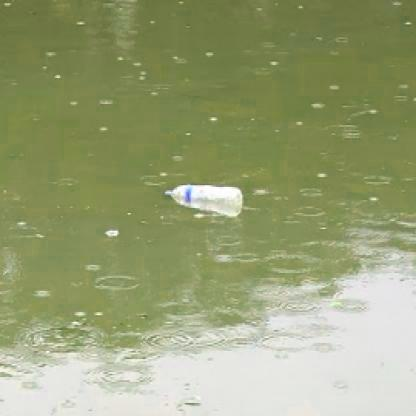Plastic: (165, 181, 245, 219)
